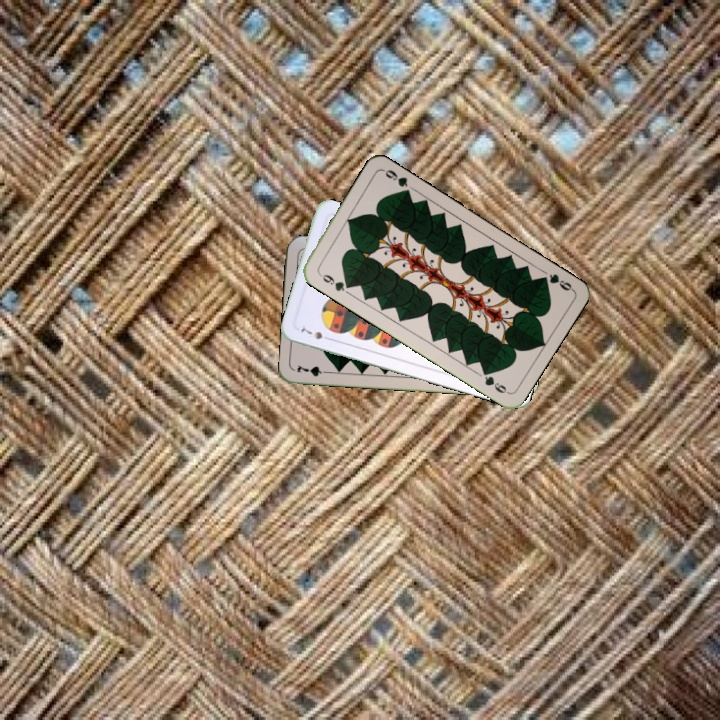G7: (293, 361, 333, 379)
G9: (314, 269, 354, 294), (535, 270, 575, 293)
S7: (296, 324, 334, 343)
